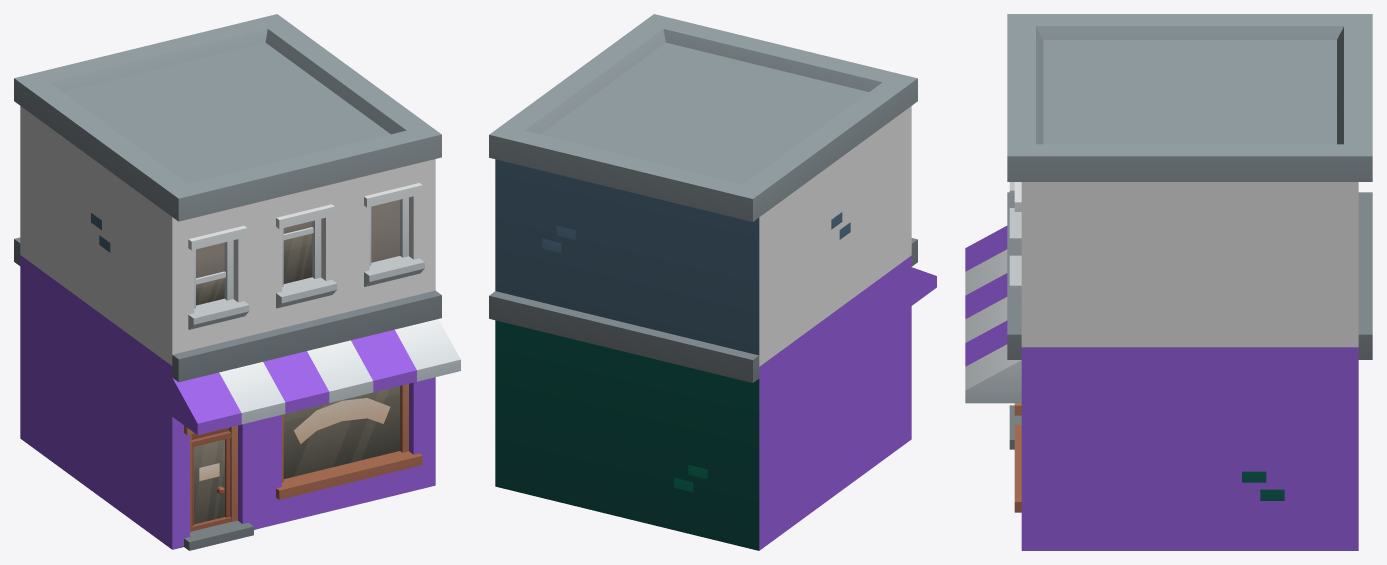
Rendered from nha7.glb.
The picture shows the model from 3 angles, left to right: view 1: azimuth 30°, elevation 25°; view 2: azimuth 150°, elevation 25°; view 3: azimuth 270°, elevation 25°; orthographic projection. The views are drawn at different scales.
Visible parts, largest first — view 1: building_A_withoutBase_Cube.939; view 2: building_A_withoutBase_Cube.939; view 3: building_A_withoutBase_Cube.939.
Part boxes in pixels (x1,y1,x2,y2): building_A_withoutBase_Cube.939: [14, 14, 460, 550]; building_A_withoutBase_Cube.939: [489, 14, 936, 550]; building_A_withoutBase_Cube.939: [965, 14, 1372, 550].
Size of the model in its own units: 1.21 by 1.55 by 1.45.
Materials: 2 (1 with a texture image).
